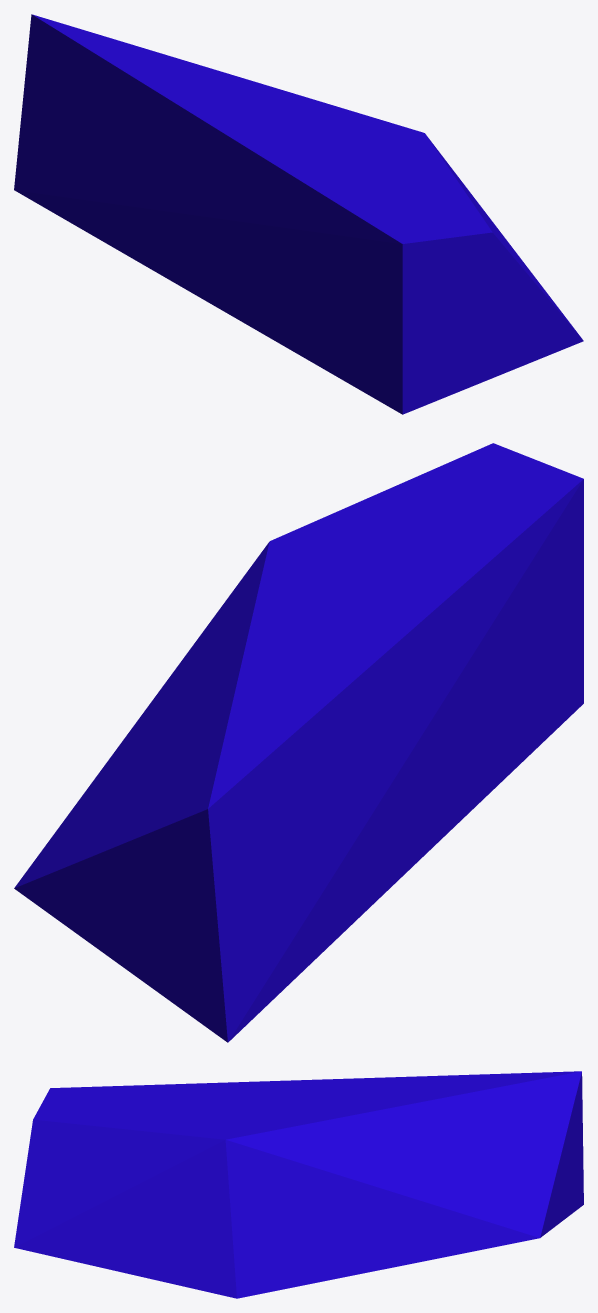
Rendered from coffee_convex_piece_017.obj.
The picture shows the model from 3 angles, top to bottom: view 1: azimuth 30°, elevation 25°; view 2: azimuth 150°, elevation 25°; view 3: azimuth 270°, elevation 25°; orthographic projection. The views are drawn at different scales.
Size of the model in its own units: 0.000136 by 8.1e-05 by 0.000299.
